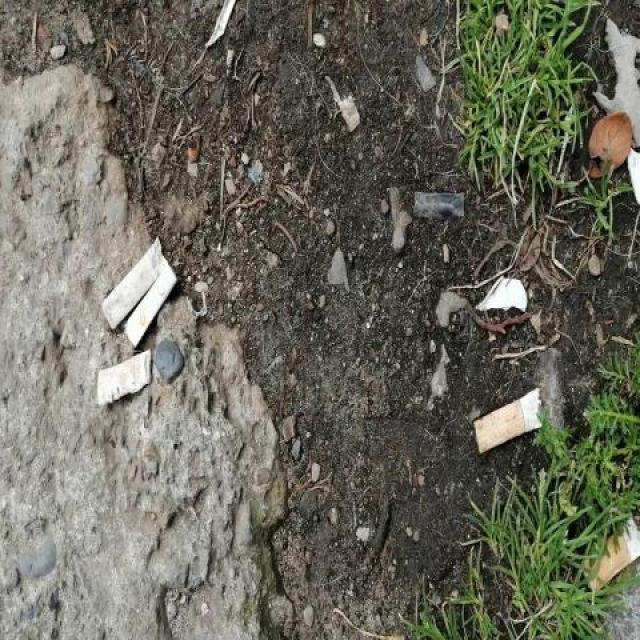non-organic waste: (99, 232, 165, 332), (580, 499, 640, 604), (469, 382, 547, 458), (125, 258, 182, 350), (91, 346, 168, 410)
